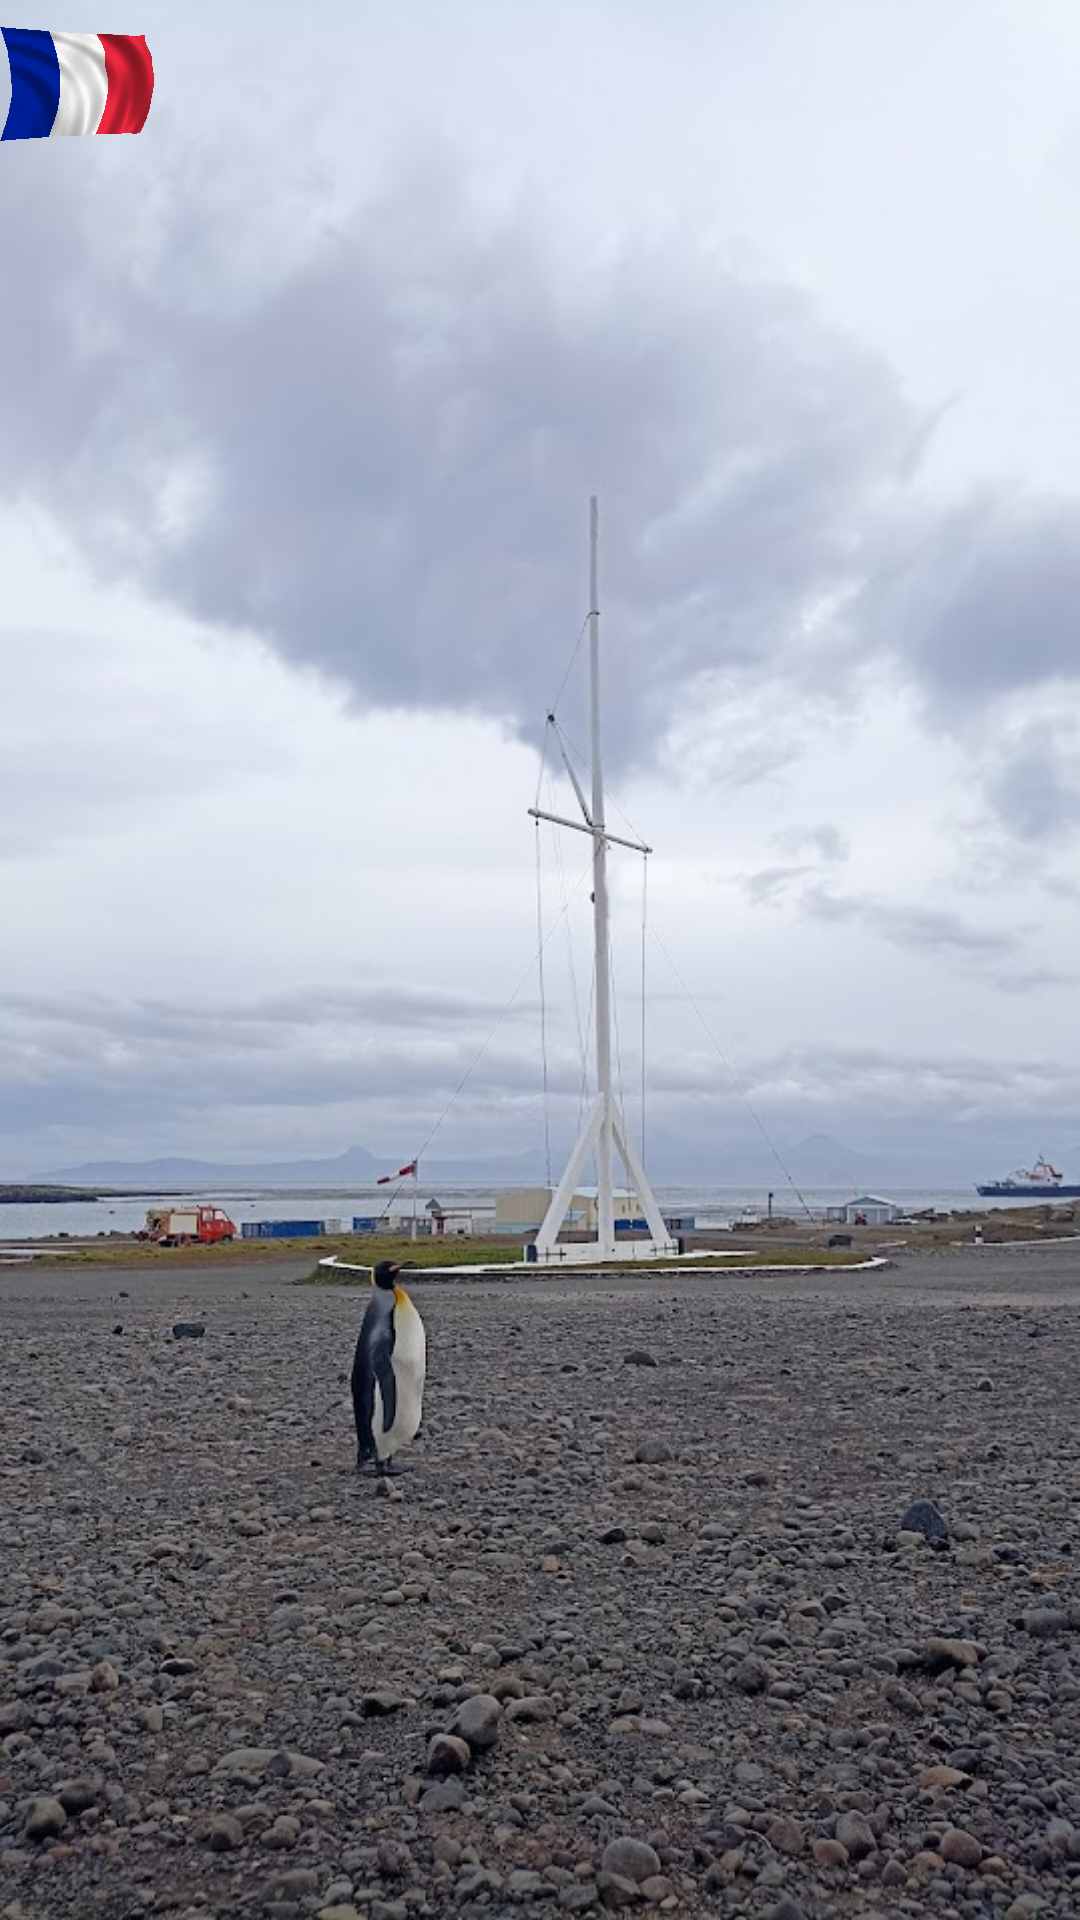

Named icons in this screenshot (1080x1920) and their bounding boxes, (x1, y1, x2, y2):
flag: (0, 27, 154, 168)
